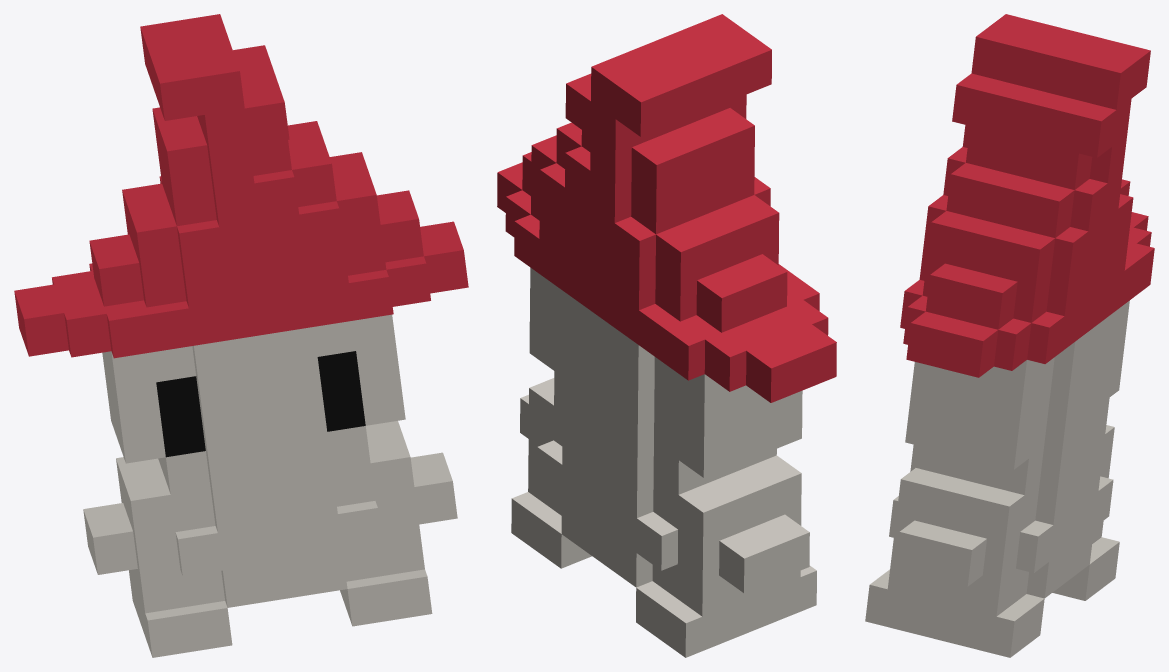
Rendered from wellspring-b8047ef165.glb.
3 renders of one model, left to right at view 1: azimuth 30°, elevation 25°; view 2: azimuth 150°, elevation 25°; view 3: azimuth 270°, elevation 25°, orthographic. The views are drawn at different scales.
Size of the model in its own units: 3.89 by 5.54 by 2.61.
